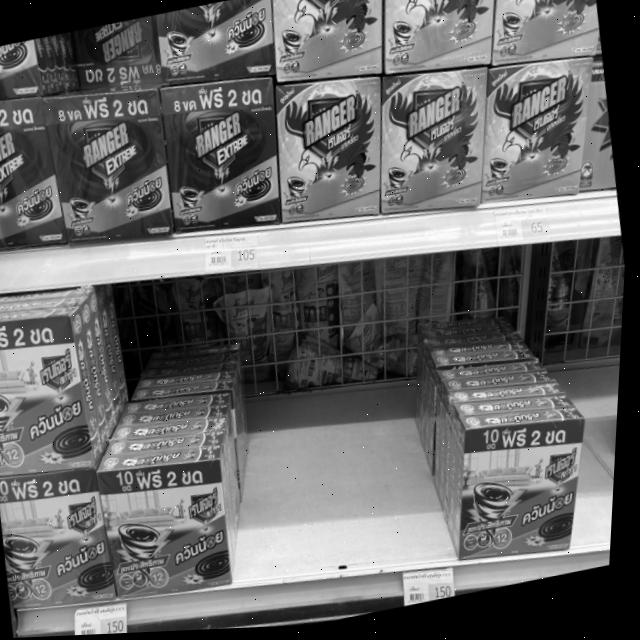empty_shelf: (234, 252, 457, 585), (71, 277, 223, 466), (429, 241, 583, 426), (561, 236, 625, 548)
